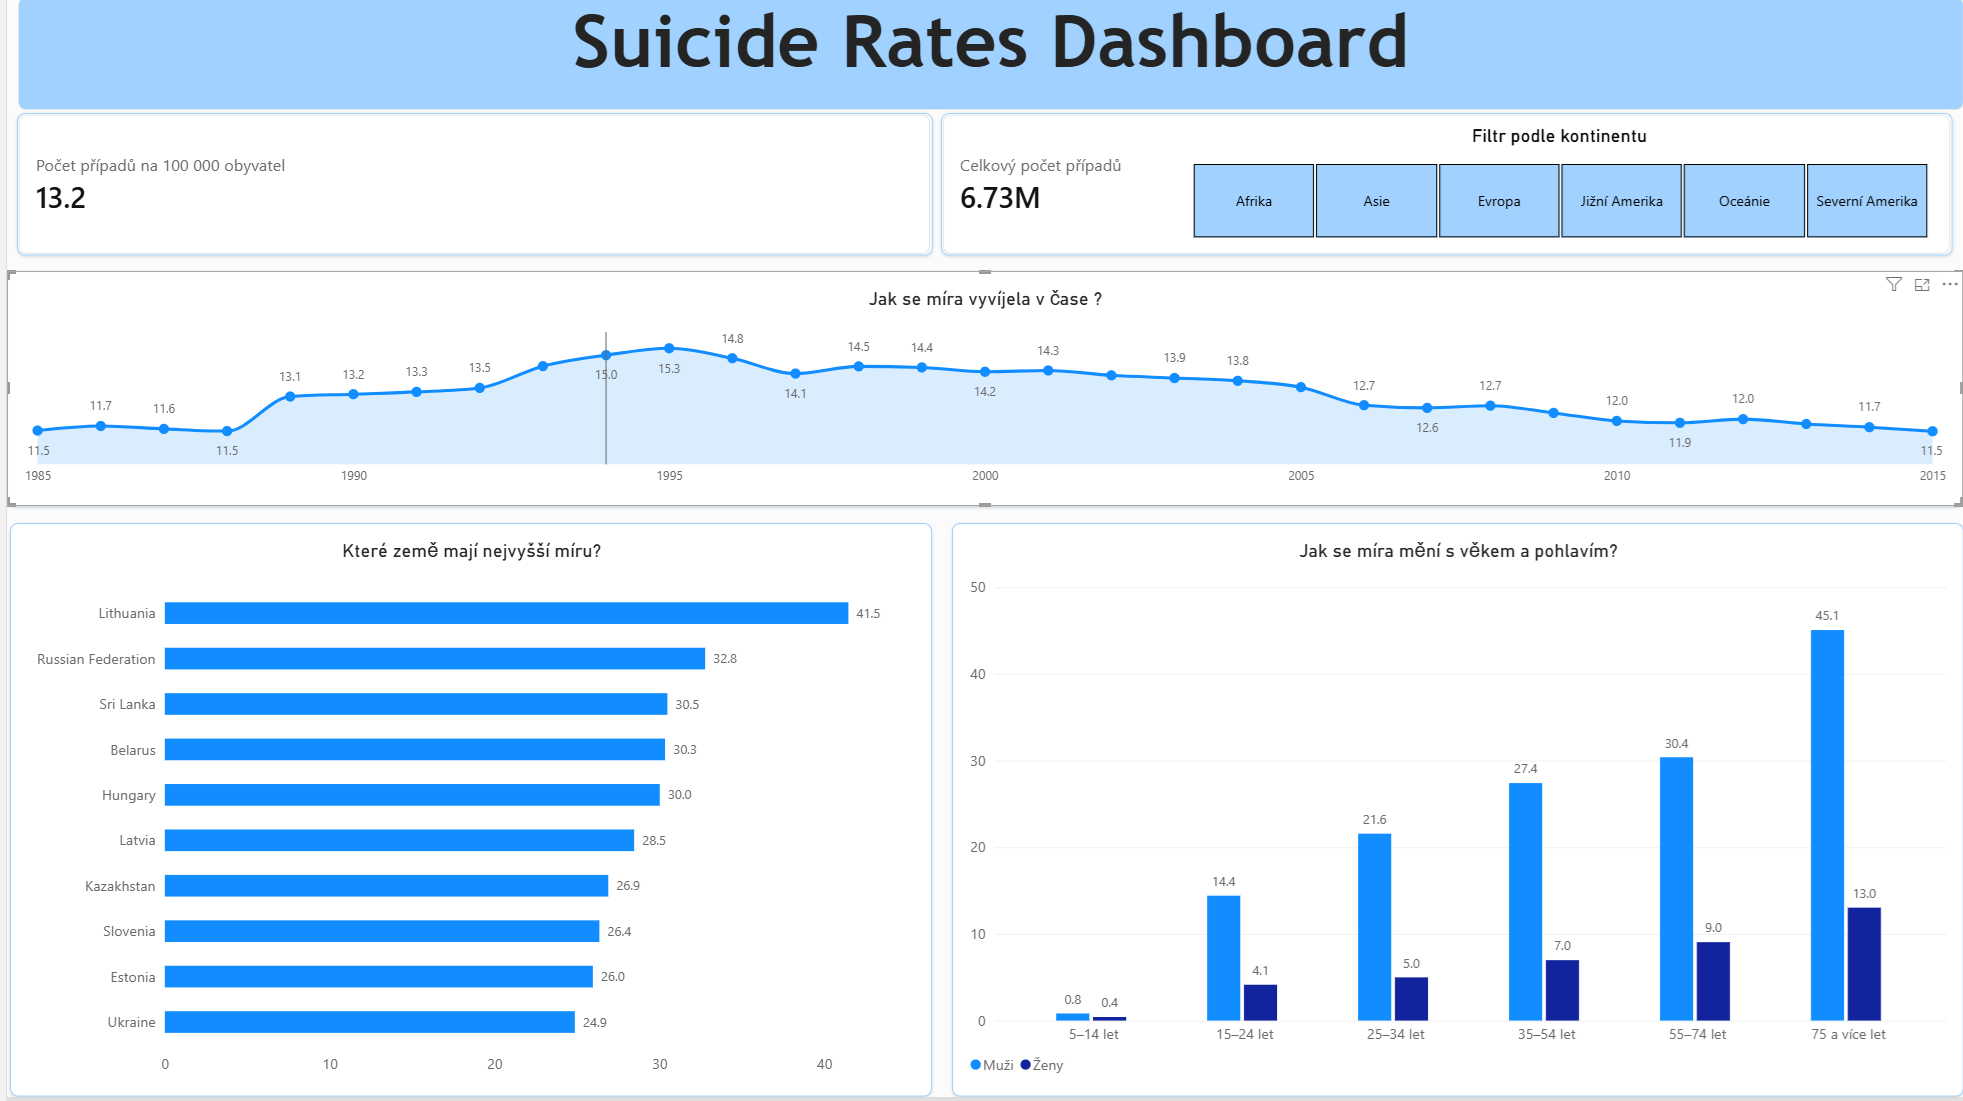

The dashboard page shown, as its layout file describes it:
{"tool":"powerbi","page":{"name":"Dashboard","canvas":[1920,1080],"ordinal":0},"visuals":[{"type":"textbox","box":[10.5,0,1909.5,110.8],"z":0},{"type":"cardVisual","fields":{"Data":["public v_pbi_data.Míra na 100k"]},"box":[9.4,113.9,898.9,140.1],"z":1000},{"type":"cardVisual","fields":{"Data":["Sum(public v_pbi_data.pocet_pripadu)"]},"box":[916.6,113.9,992.9,140.1],"z":2000},{"type":"lineChart","title":"Jake se míra vyvíjela v čase ?","fields":{"Category":["public v_pbi_data.rok"],"Y":["public v_pbi_data.Míra na 100k"]},"box":[0,269,1920,230.7],"z":3000},{"type":"clusteredColumnChart","title":"Jak se míra mění s věkem a pohlavím?","fields":{"Category":["public v_pbi_data.vekova_skupina"],"Series":["public v_pbi_data.pohlavi"],"Y":["public v_pbi_data.Míra na 100k"]},"box":[927.6,516.3,993.4,563.4],"z":4000},{"type":"clusteredBarChart","title":"Které země mají nejvyšší míru?","fields":{"Category":["public v_pbi_data.zeme"],"Y":["public v_pbi_data.Míra na 100k"]},"box":[3.1,516.3,905.1,563.4],"z":5000},{"type":"slicer","title":"Filtr podle kontinentu","fields":{"Values":["public v_pbi_data.kontinent"]},"box":[1127.8,110.9,792.2,143],"z":6000}]}

Visuals, with their boxes in screenshot pixels (x1, y1, x2, y2), scaled from the page's 1920x1080 canvas onto the 1963x1101 screenshot:
textbox: locate(11, 0, 1962, 113)
cardVisual - public v_pbi_data.Míra na 100k: locate(10, 116, 929, 259)
cardVisual - Sum(public v_pbi_data.pocet_pripadu): locate(937, 116, 1952, 259)
"Jake se míra vyvíjela v čase ?" lineChart: locate(0, 274, 1962, 509)
"Jak se míra mění s věkem a pohlavím?" clusteredColumnChart: locate(948, 526, 1962, 1100)
"Které země mají nejvyšší míru?" clusteredBarChart: locate(3, 526, 929, 1100)
"Filtr podle kontinentu" slicer: locate(1153, 113, 1962, 259)
